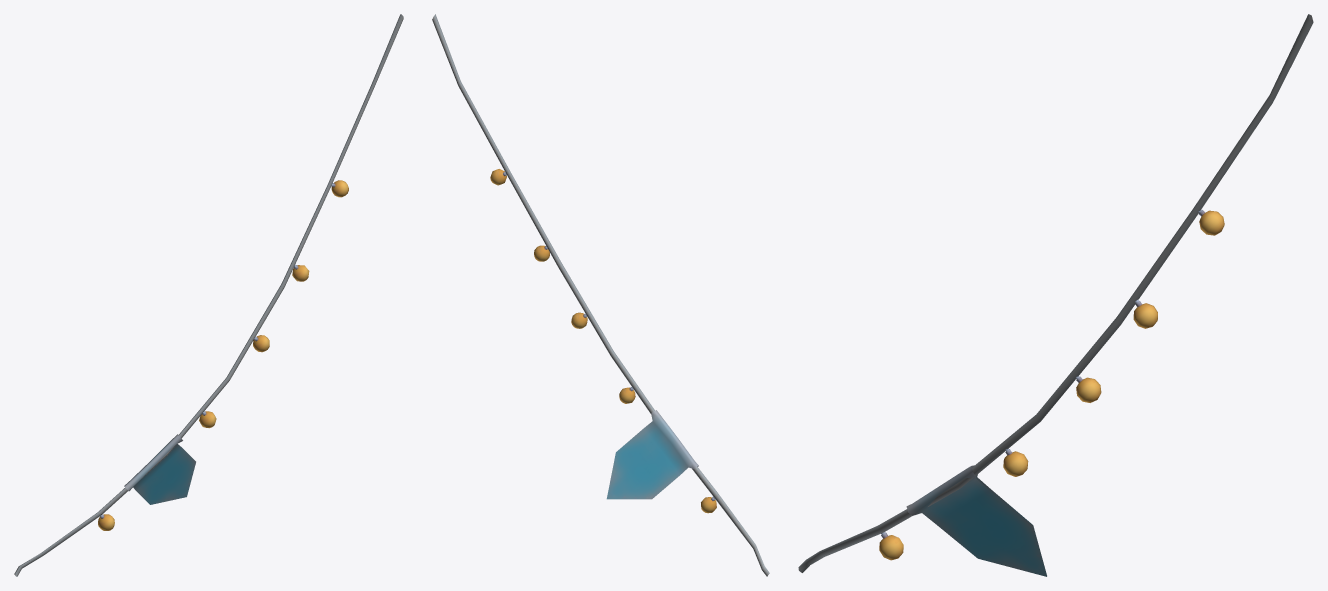
Rendered from pref_sm_beach_winter_lightflag03_lv3.fbx.
The picture shows the model from 3 angles, left to right: view 1: azimuth 30°, elevation 25°; view 2: azimuth 150°, elevation 25°; view 3: azimuth 330°, elevation 25°; orthographic projection. The views are drawn at different scales.
Parts seen in each view (by area): view 1: pref_sm_beach_winter_lightflag03_lv3; view 2: pref_sm_beach_winter_lightflag03_lv3; view 3: pref_sm_beach_winter_lightflag03_lv3.
Part boxes in pixels (bbox=[...]): pref_sm_beach_winter_lightflag03_lv3: bbox=[14, 14, 403, 576]; pref_sm_beach_winter_lightflag03_lv3: bbox=[432, 14, 769, 576]; pref_sm_beach_winter_lightflag03_lv3: bbox=[798, 14, 1313, 576].
Size of the model in its own units: 4.86 by 6.1 by 0.6694.
